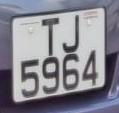4: (81, 46, 101, 95)
5: (18, 54, 42, 103)
6: (60, 51, 83, 96)
9: (39, 54, 62, 99)
J: (60, 11, 84, 58)
T: (38, 15, 63, 59)
